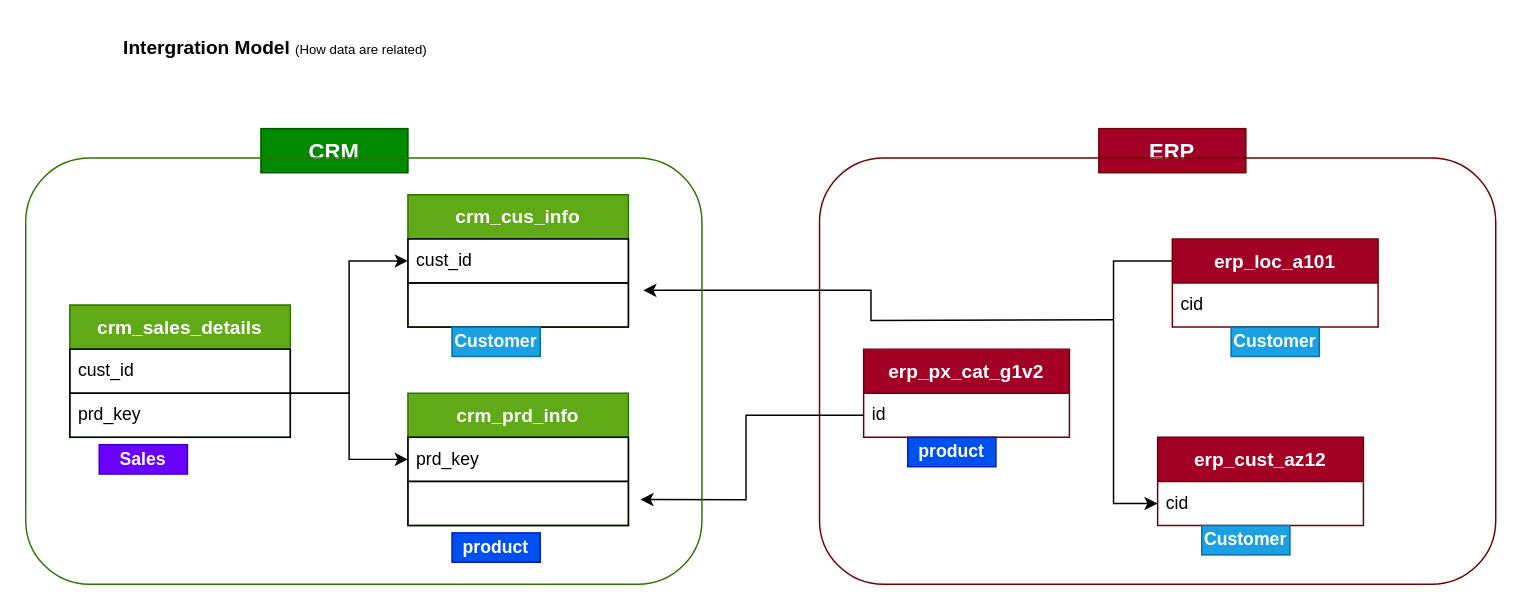
Image size: 1521x610. Some labels were removed from this diagram. The shapes that lost their labels are listed below. From the top down, each one's centre as x and y in pixels, then its label:
At [517,304]: "cust_key".
At [517,503]: "prd_id".
